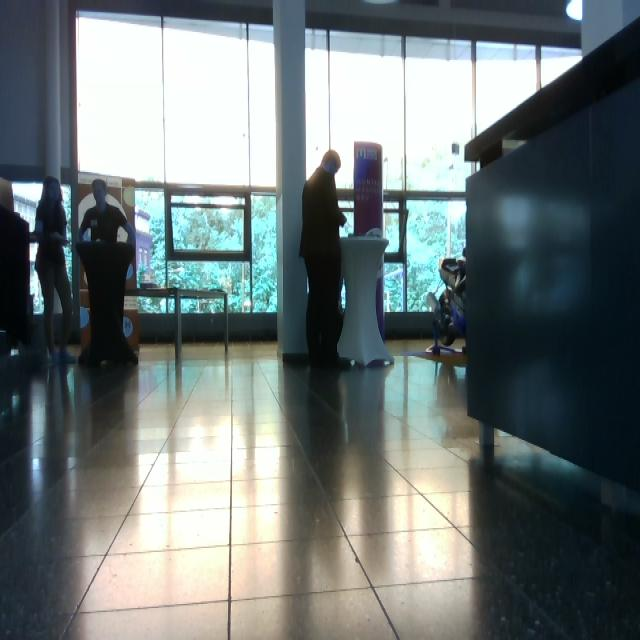light bulb: (566, 1, 583, 21), (123, 186, 136, 208), (452, 142, 460, 156)
person: (77, 178, 139, 368), (299, 149, 352, 370), (32, 176, 77, 365)
pillar: (273, 1, 309, 361)
table: (336, 232, 397, 373)
tiled floor: (2, 339, 639, 639)
window: (75, 9, 278, 318)
